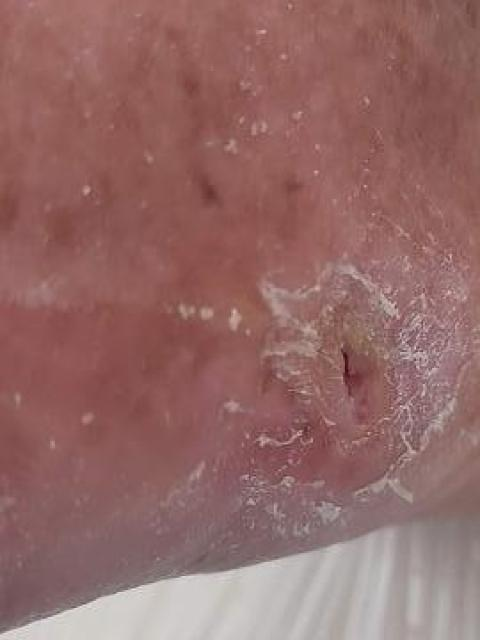wound: (316, 299, 400, 439)
